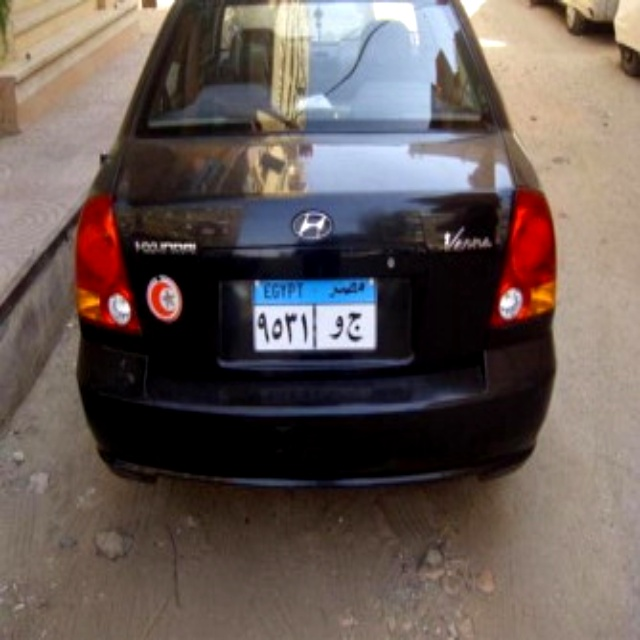License Plate: (243, 272, 383, 357)
